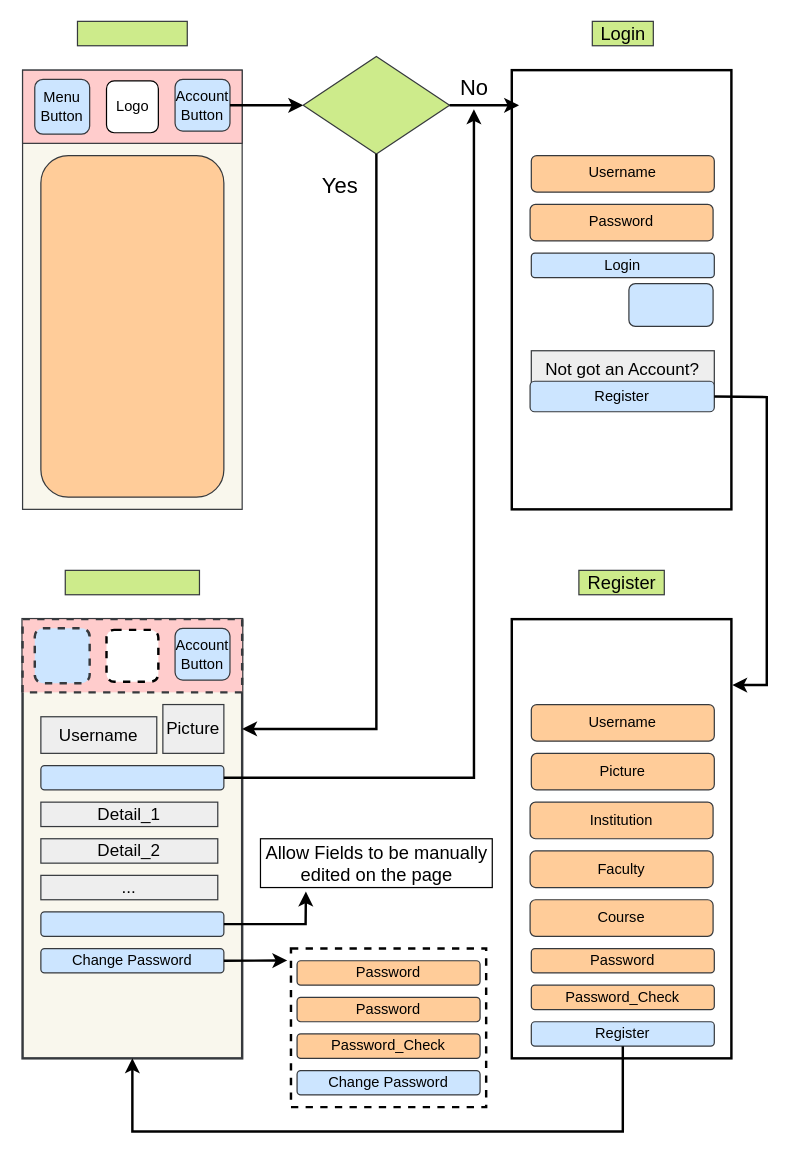
Some shapes in this 798 by 1164 pixel diagram are drawn without their labels. Each missing label, with the centre of its shape:
#Main_Content: [132,325]
Account (Mobile): [131,582]
Delete: [670,304]
Edit Profile: [132,923]
logout: [132,777]
Main (Mobile): [131,33]
Signed In?: [376,104]
